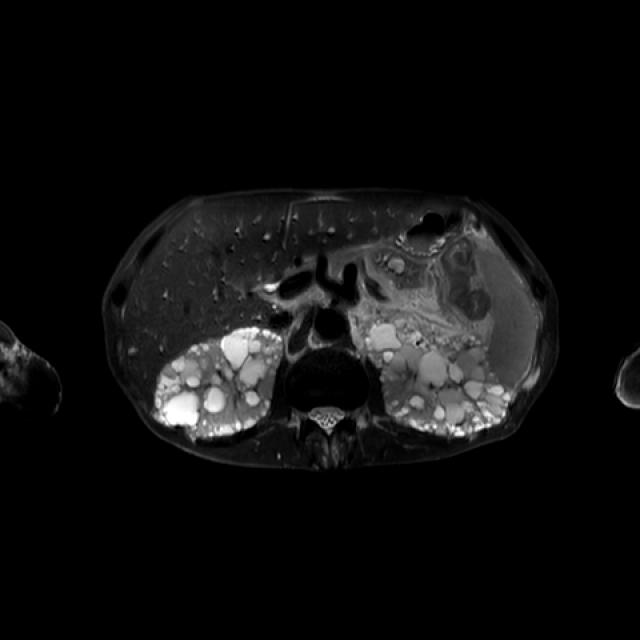sag: (154, 326, 286, 441)
sol: (367, 317, 509, 438)
